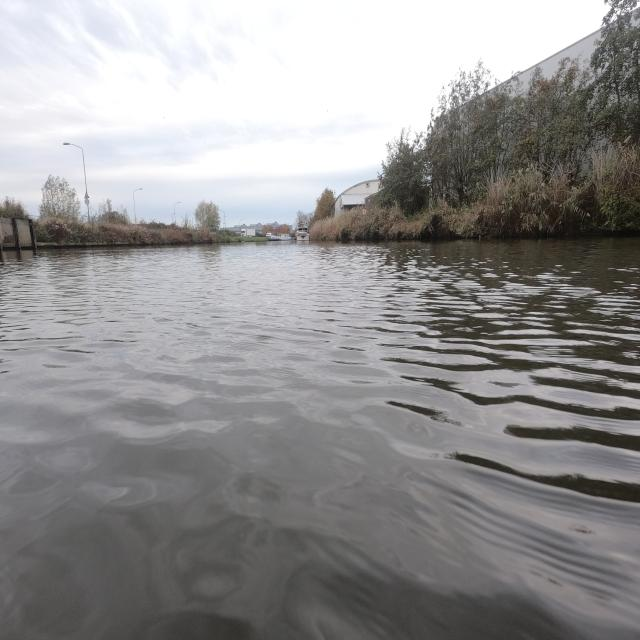reed: (305, 159, 635, 239), (35, 212, 222, 247)
sky: (1, 1, 605, 223)
tree: (377, 0, 640, 217)
wall: (1, 215, 32, 249)
water: (1, 236, 638, 638)
